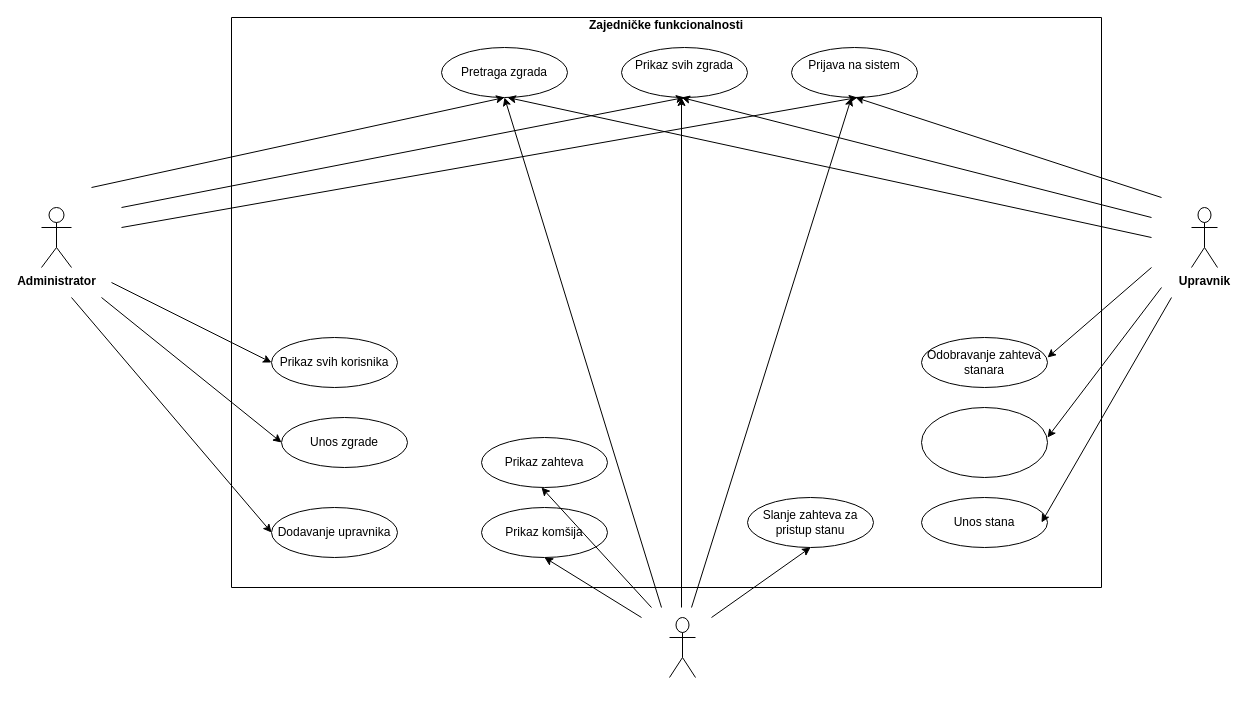
Image size: 1247x716. Some labels were removed from this diagram. Here are the shapes that lost their labels. From the top down, the box of each, then its label:
(920, 406, 1048, 478): Odobravanje/Odbijanje zgrade
(668, 616, 696, 678): Stanar
